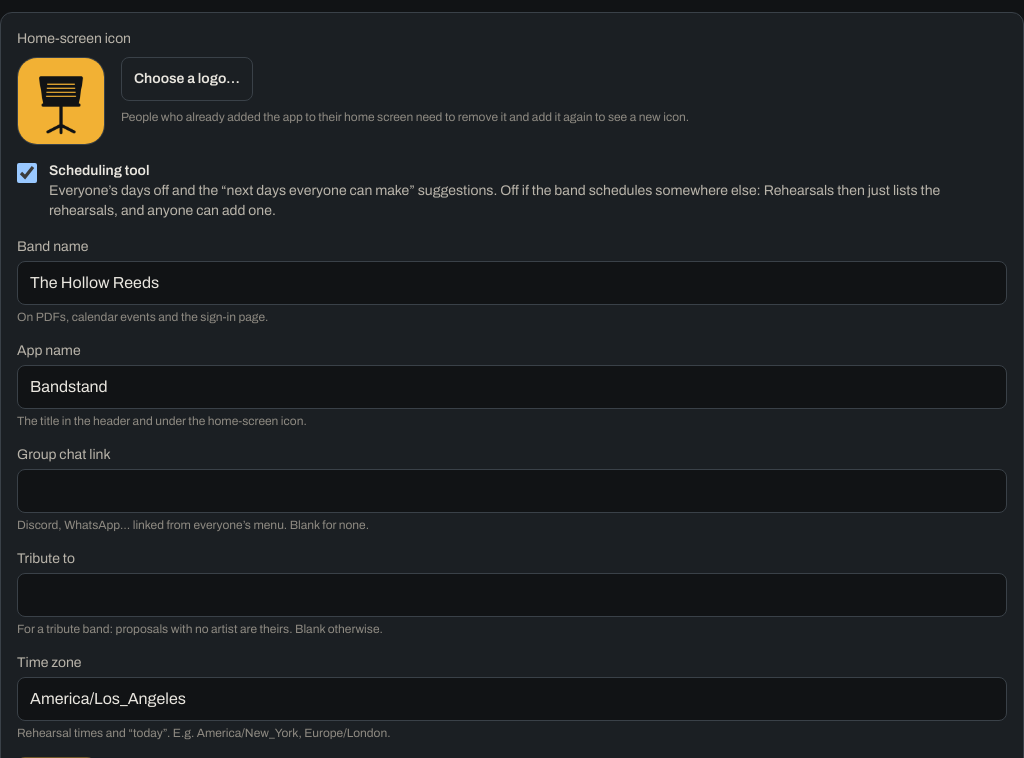
Test: BandSettings › saves only when something changed
The width and height of the screenshot is (1024, 758).
Type "The Band" into the field labelled "Tribute to". click: (512, 595)
box: [17,573,1007,617]
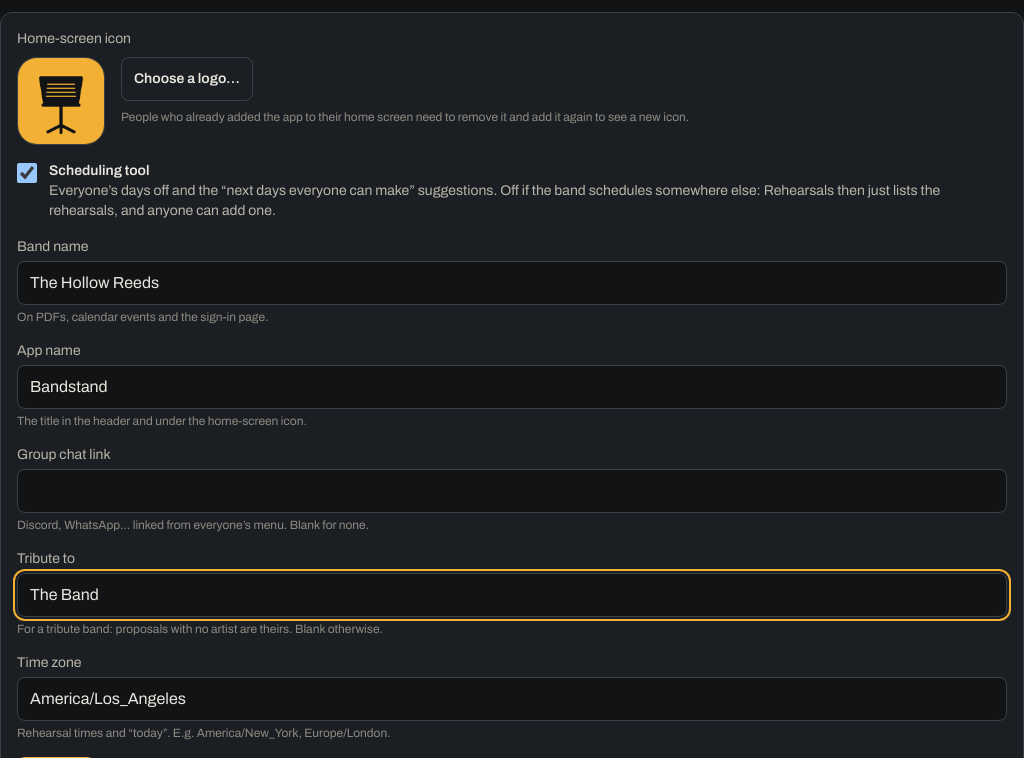
Click the checkbox. click: (27, 173)
box: [17,163,37,183]
(page scrolled)
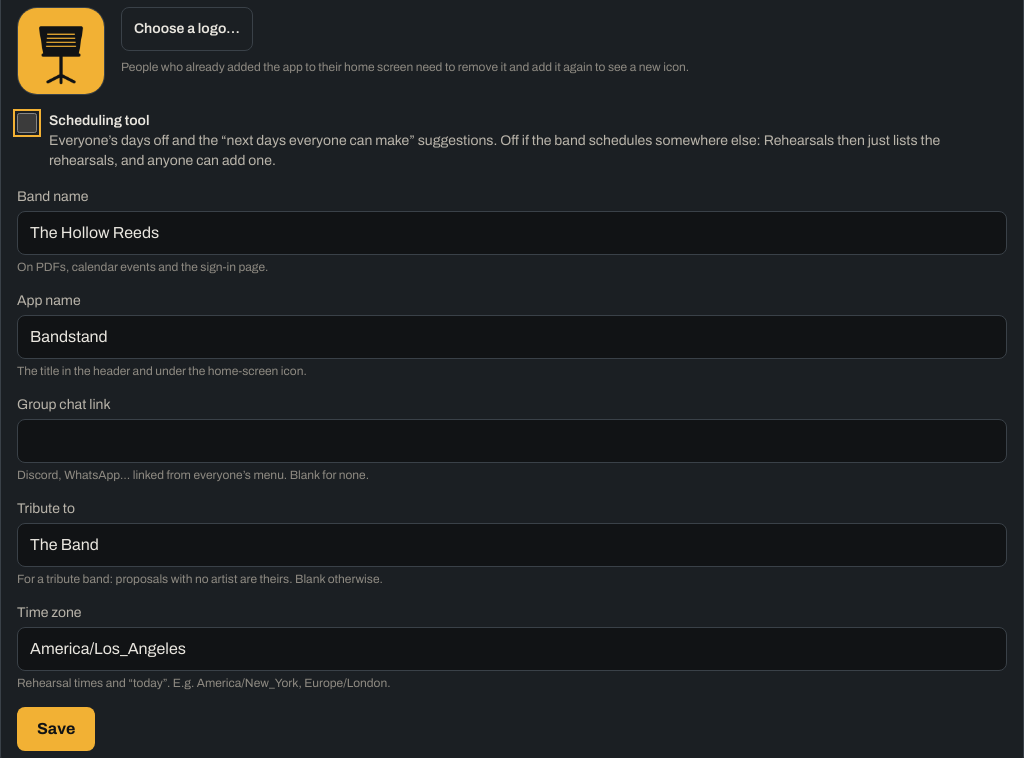
Click the button "Save". click: (56, 729)
box: [17,707,95,751]
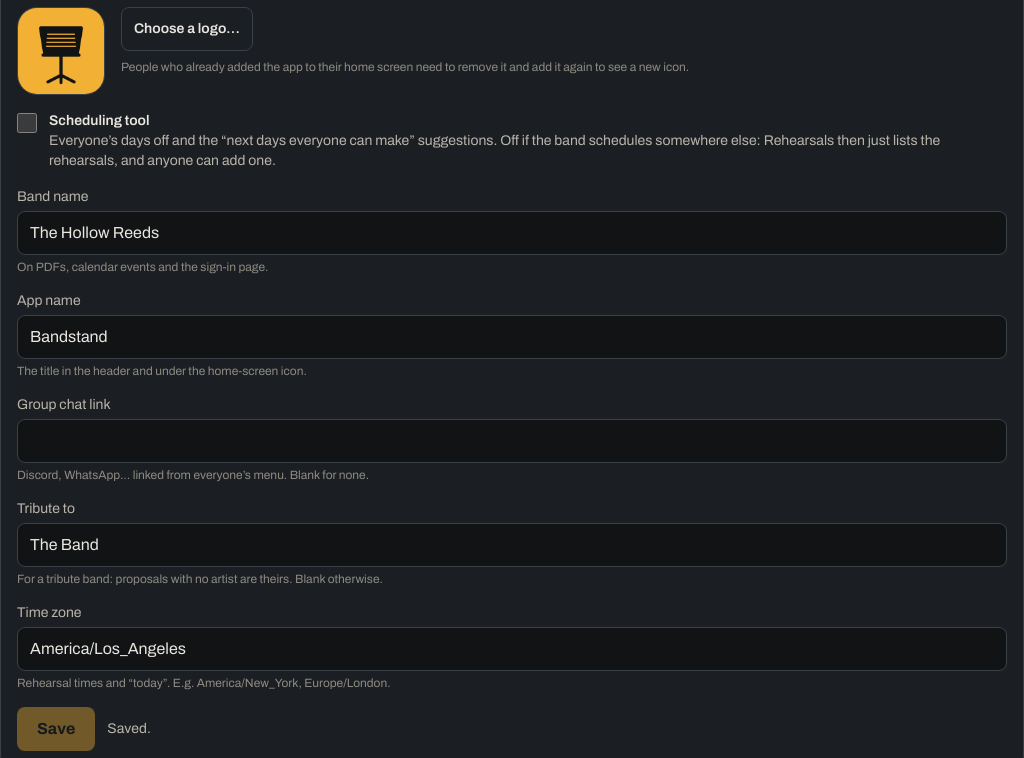
expect the text "Saved." is shown: met, box [107,719,151,739]
expect the button "Save" is disabled: met, box [17,707,95,751]
